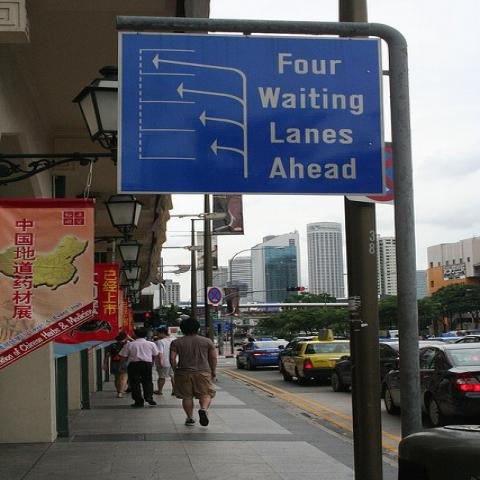car: (380, 342, 479, 428), (327, 340, 452, 391), (281, 340, 350, 385), (278, 336, 346, 373), (236, 341, 290, 370), (426, 337, 464, 343), (454, 335, 479, 344), (234, 333, 247, 347)
